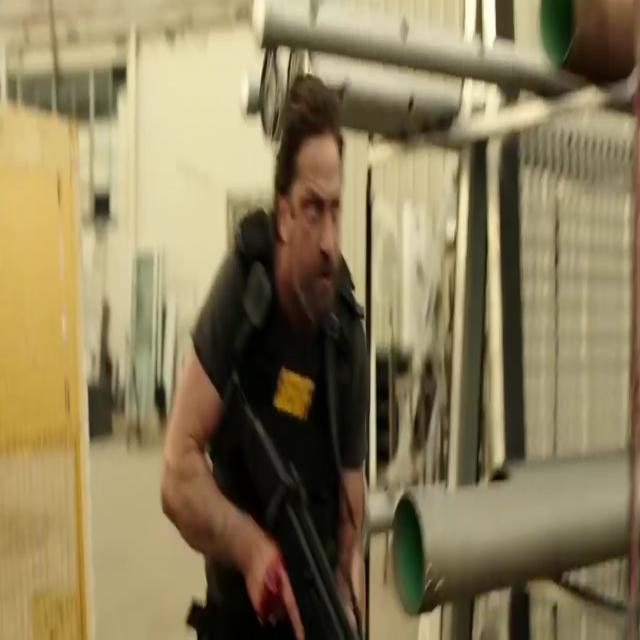Weapon: (216, 376, 398, 640)
